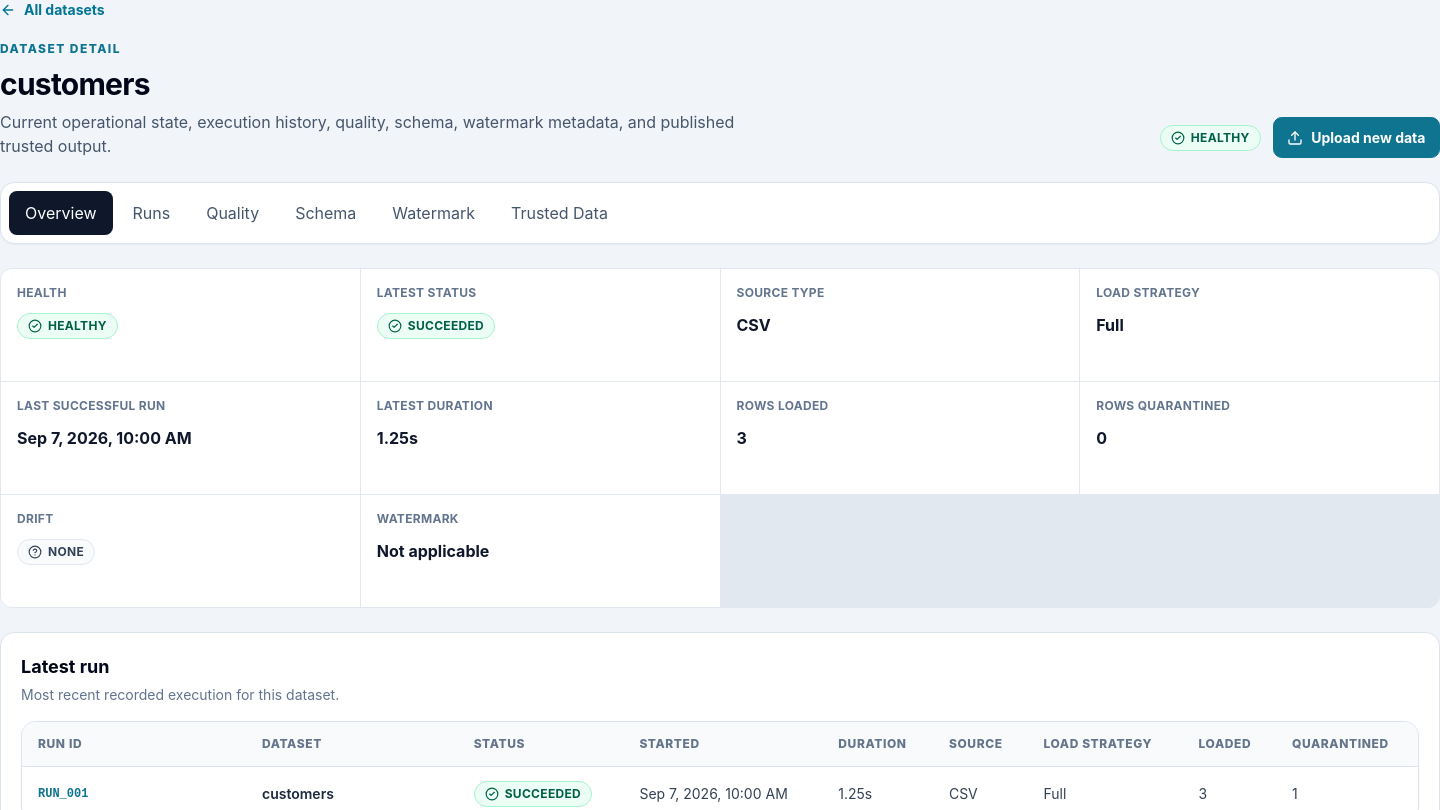
Test: shows the conservative feature-disabled state
The image size is (1440, 810).
Click the tab "Trusted Data".
click(559, 213)  # box [495,191,624,235]
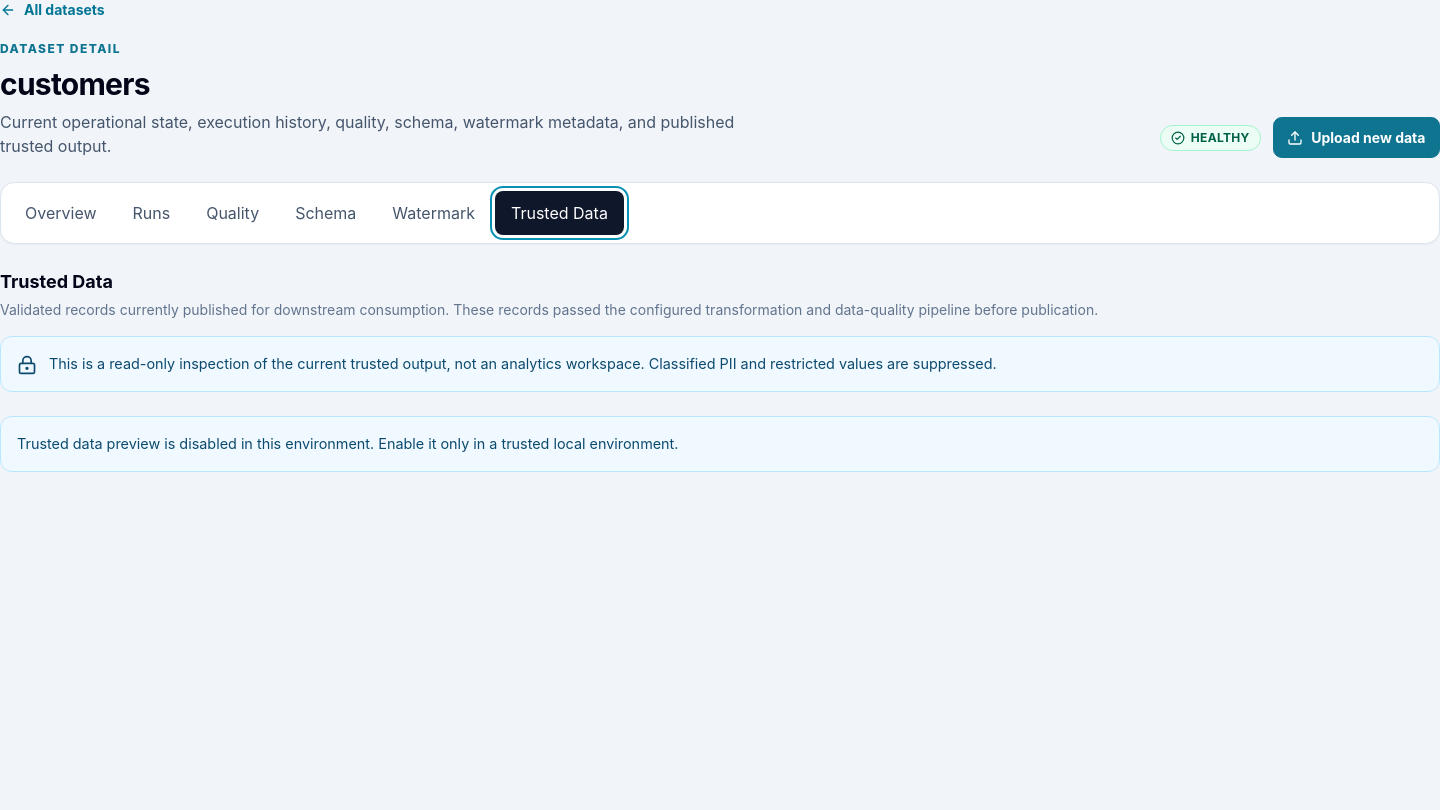
Result: the text "preview is disabled" is shown at [17,435,374,452]
